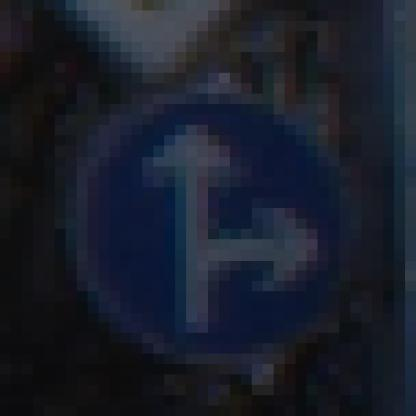Straight or Right: (56, 63, 362, 365)
